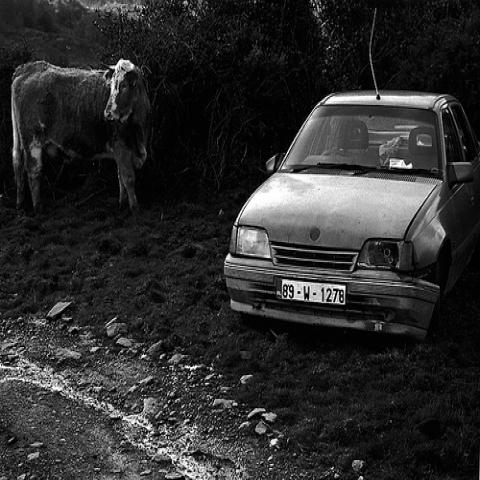car: (227, 92, 479, 336)
